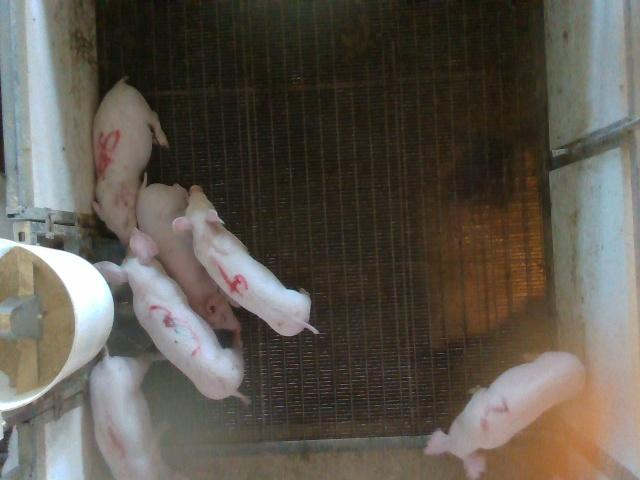pig-1: (90, 351, 156, 479)
pig-2: (425, 351, 585, 478)
pig-3: (95, 229, 244, 399)
pig-4: (174, 185, 319, 336)
pig-5: (92, 78, 169, 244)
